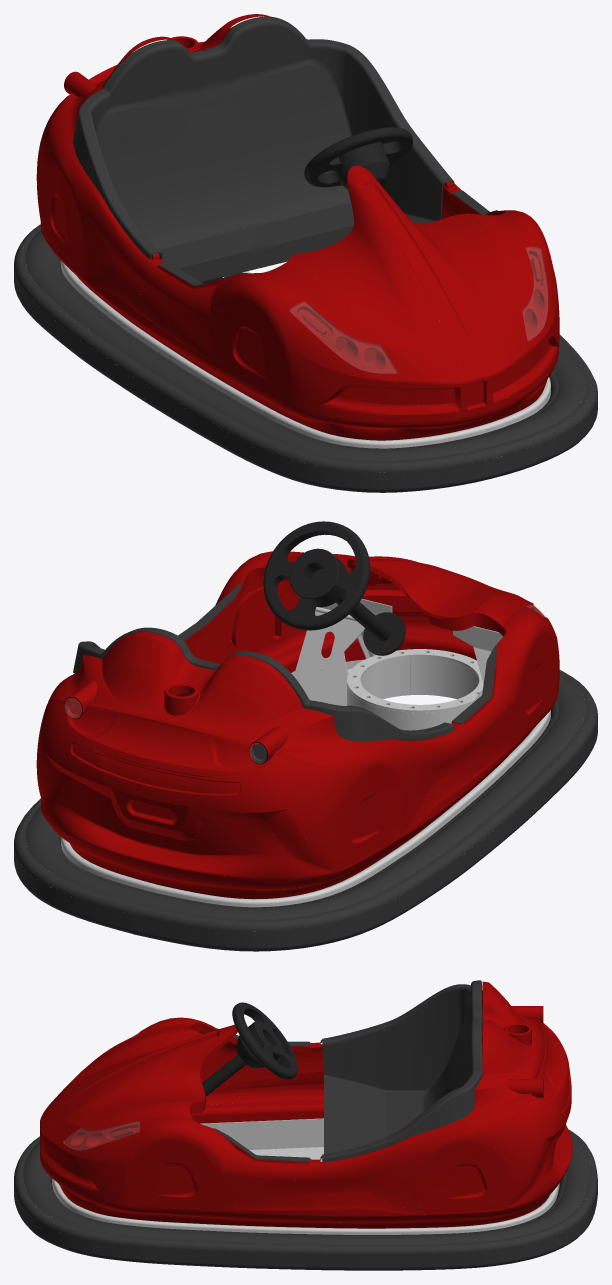
Rendered from bumper2.glb.
The picture shows the model from 3 angles, top to bottom: view 1: azimuth 30°, elevation 25°; view 2: azimuth 150°, elevation 25°; view 3: azimuth 270°, elevation 25°; orthographic projection. The views are drawn at different scales.
Parts seen in each view (by area): view 1: Body151, Body149, Body13, Body7, Body99, object 1, object 2; view 2: Body151, Body13, Body1 (×4), Body99, Body149 (×2), Body7, Body150; view 3: Body151, Body13, Body149 (×2), Body7, Body99, Body1 (×2), object 2.
Part boxes in pixels (bbox=[...]): Body151: bbox=[36, 14, 559, 440]; Body149: bbox=[73, 16, 454, 283]; Body13: bbox=[14, 224, 597, 492]; Body7: bbox=[60, 260, 550, 472]; Body99: bbox=[304, 127, 413, 189]; object 1: bbox=[290, 301, 397, 373]; object 2: bbox=[522, 247, 547, 340]; Body151: bbox=[36, 551, 559, 899]; Body13: bbox=[14, 670, 597, 951]; Body1 (×4): bbox=[294, 599, 502, 730]; Body99: bbox=[263, 521, 405, 655]; Body149 (×2): bbox=[73, 583, 454, 763]; Body7: bbox=[61, 659, 550, 931]; Body150: bbox=[452, 645, 497, 724]; Body151: bbox=[40, 981, 572, 1228]; Body13: bbox=[14, 1129, 597, 1270]; Body149 (×2): bbox=[214, 980, 482, 1162]; Body7: bbox=[52, 1178, 559, 1254]; Body99: bbox=[202, 1002, 298, 1096]; Body1 (×2): bbox=[200, 1118, 323, 1161]; object 2: bbox=[63, 1121, 139, 1150].
Bounding box in the file's own units: 1.13 × 0.7681 × 1.88.
Materials: 6 (1 with a texture image).
